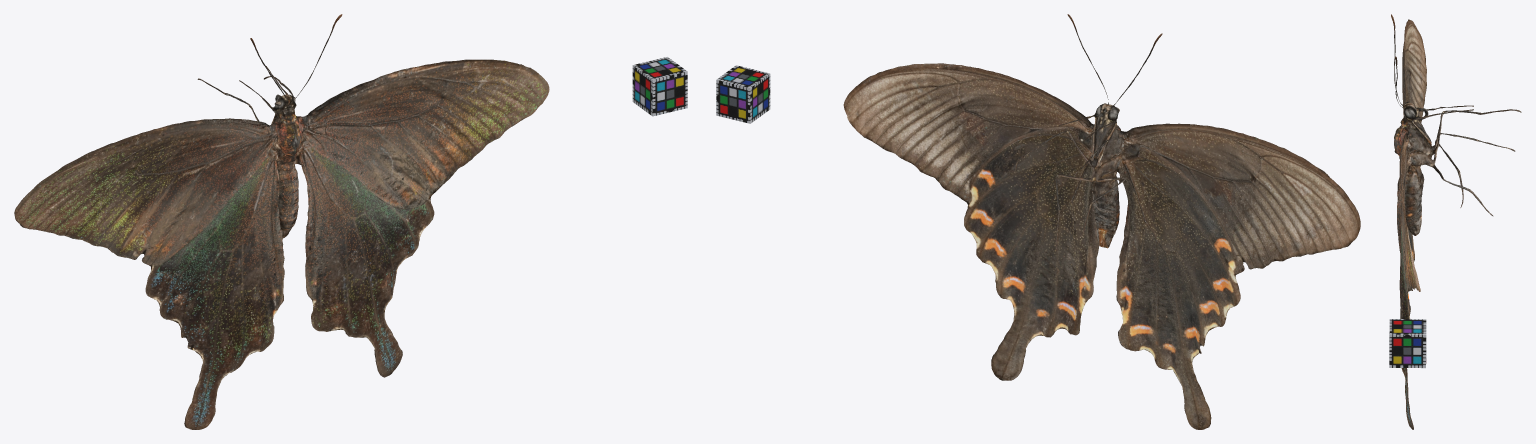
3 renders of one model, left to right at view 1: azimuth 30°, elevation 25°; view 2: azimuth 150°, elevation 25°; view 3: azimuth 270°, elevation 25°, orthographic. The views are drawn at different scales.
Visible parts, largest first — view 1: ISG107-W09-1all-1_3, Cube_0; view 2: ISG107-W09-1all-1_3, Cube_0; view 3: ISG107-W09-1all-1_3, Cube_0.
Boxes of the visible parts, x1,y1,x2,y2 form: ISG107-W09-1all-1_3: (14, 14, 549, 429); Cube_0: (632, 57, 687, 116); ISG107-W09-1all-1_3: (843, 14, 1360, 429); Cube_0: (716, 65, 770, 123); ISG107-W09-1all-1_3: (1391, 14, 1521, 429); Cube_0: (1389, 319, 1426, 368).
Bounding box in the file's own units: 12.32 × 6.96 × 2.37.
Materials: 2 (2 with a texture image).
